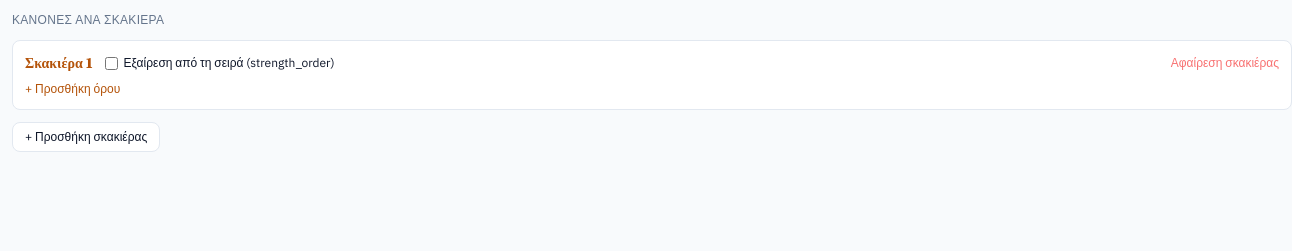
Test: RosterRulesBuilder — ο αριθμός σκακιέρας δεν είναι πια επεξεργάσιμος (επιβεβαιωμένο) › προσθήκη νέας σκακιέρας παίρνει τον επόμενο διαθέσιμο αριθμό
Click the button "+ Προσθήκη σκακιέρας" at (86, 137), box [12,122,160,152]
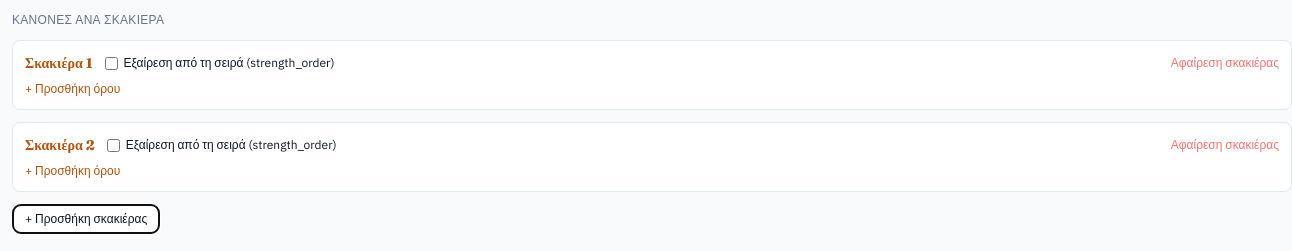
Now the text "Σκακιέρα 2" is shown, box [25,135,95,155]
